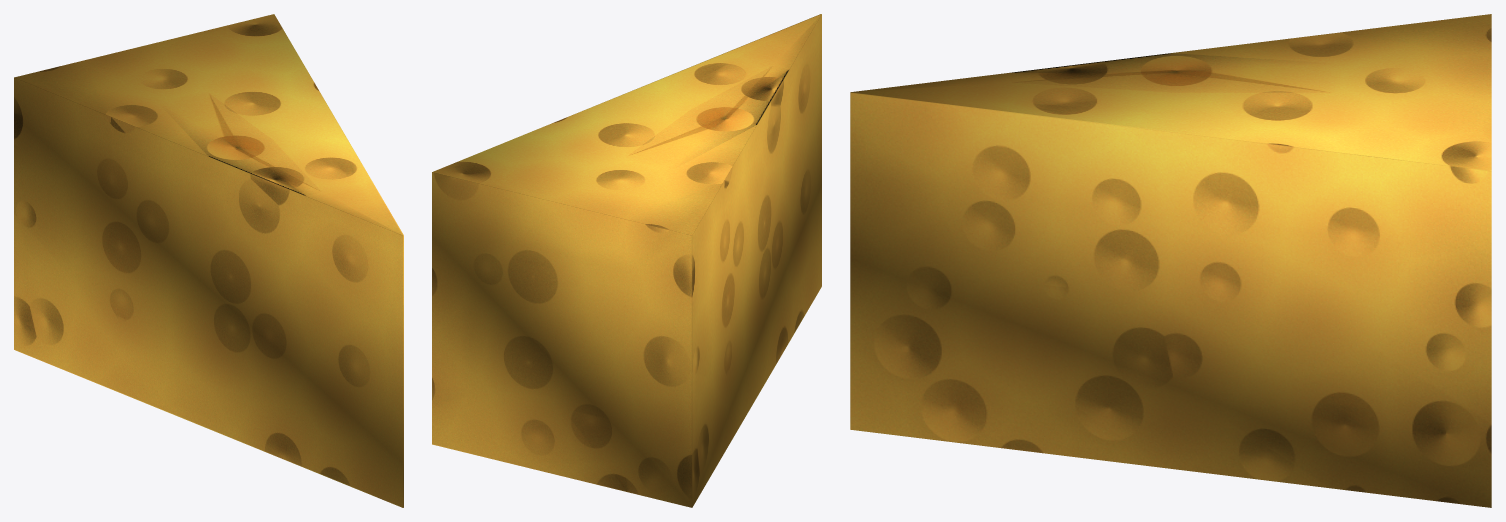
File: ProceduralCheese.glb
3 views of the same model, side by side, from view 1: azimuth 30°, elevation 25°; view 2: azimuth 150°, elevation 25°; view 3: azimuth 270°, elevation 25° (orthographic). The views are drawn at different scales.
Visible parts, largest first — view 1: Cube; view 2: Cube; view 3: Cube.
Boxes of the visible parts, x1=… form: Cube: x1=14, y1=14, x2=403, y2=507; Cube: x1=432, y1=14, x2=821, y2=507; Cube: x1=850, y1=14, x2=1491, y2=507.
Bounding box in the file's own units: 2 × 2 × 3.45.
1 material, 1 textured.
